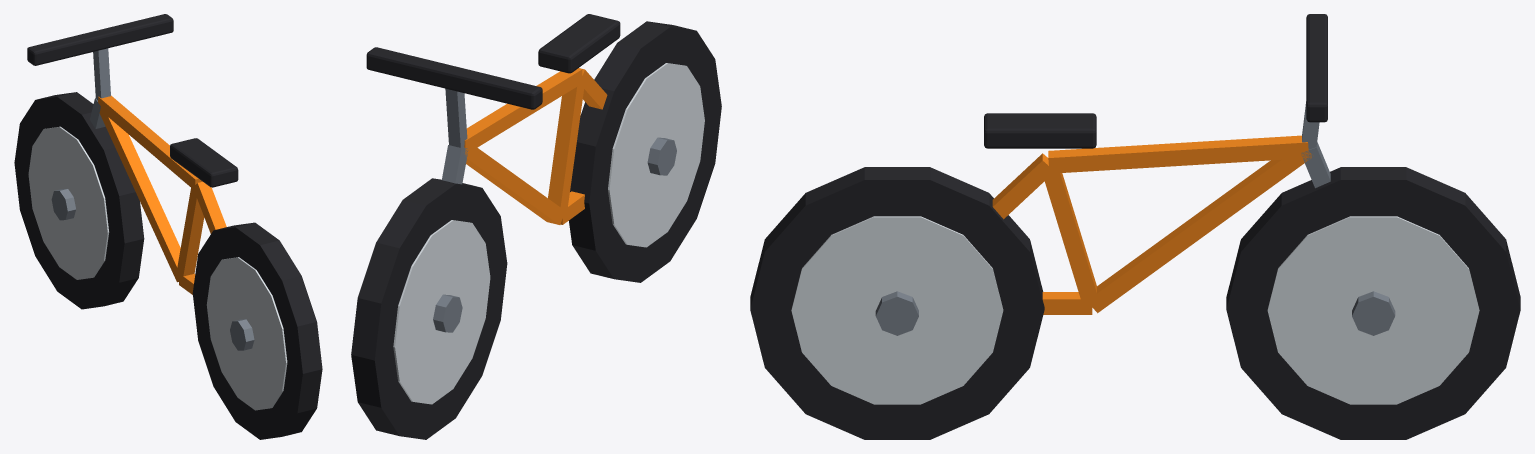
File: Parkour_Bike.fbx
3 views of the same model, side by side, from view 1: azimuth 30°, elevation 25°; view 2: azimuth 150°, elevation 25°; view 3: azimuth 270°, elevation 25° (orthographic). The views are drawn at different scales.
Visible parts, largest first — view 1: Bike; view 2: Bike; view 3: Bike.
Part boxes in pixels (box(x1,y1,x2,y2)): Bike: box(14, 14, 322, 439); Bike: box(351, 14, 721, 439); Bike: box(750, 14, 1520, 439).
Bounding box in the file's own units: 0.5 × 0.9565 × 1.78.
